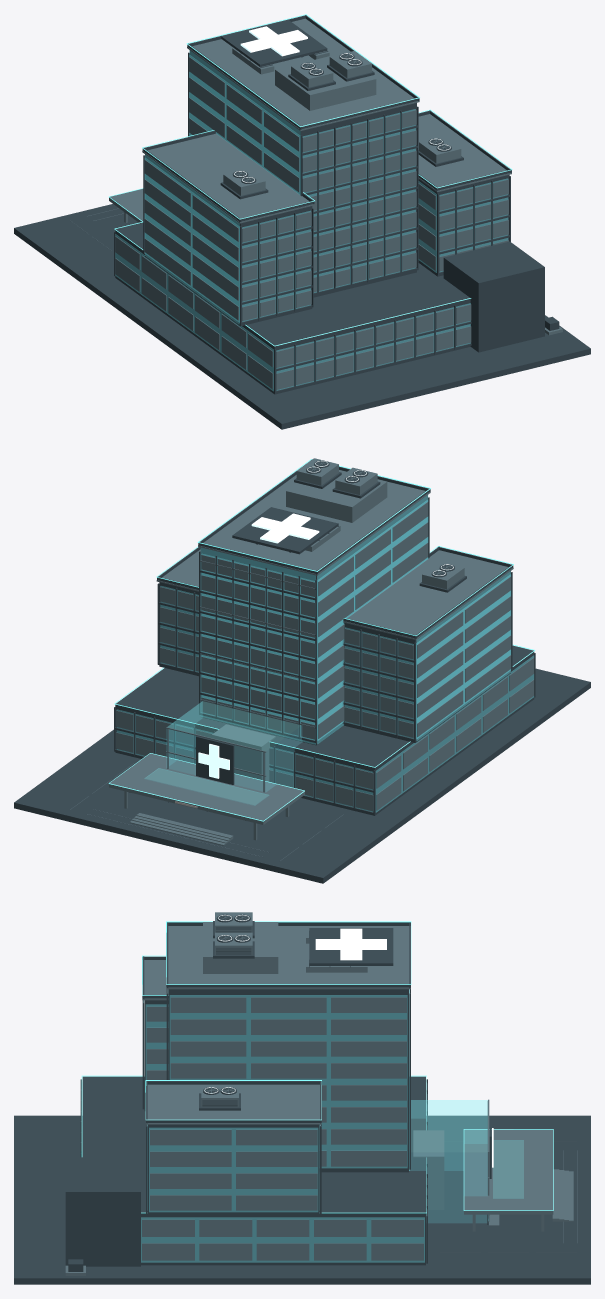
Rendered from hospital.glb.
3 views of the same model, one above another, from view 1: azimuth 30°, elevation 25°; view 2: azimuth 150°, elevation 25°; view 3: azimuth 270°, elevation 25° (orthographic). The views are drawn at different scales.
Visible parts, largest first — view 1: hospital_graphite, hospital_graphite_light, hospital_glass, hospital_edge, hospital_white; view 2: hospital_graphite_light, hospital_graphite, hospital_glass, hospital_edge, hospital_white; view 3: hospital_graphite, hospital_graphite_light, hospital_glass, hospital_edge, hospital_white.
Boxes of the visible parts, bbox=[...] form: hospital_graphite: bbox=[14, 15, 590, 429]; hospital_graphite_light: bbox=[70, 18, 562, 389]; hospital_glass: bbox=[115, 50, 507, 390]; hospital_edge: bbox=[109, 14, 512, 346]; hospital_white: bbox=[234, 26, 450, 182]; hospital_graphite_light: bbox=[70, 458, 534, 860]; hospital_graphite: bbox=[14, 460, 590, 883]; hospital_glass: bbox=[117, 495, 533, 812]; hospital_edge: bbox=[108, 459, 535, 821]; hospital_white: bbox=[198, 460, 453, 778]; hospital_graphite: bbox=[14, 914, 590, 1284]; hospital_graphite_light: bbox=[65, 912, 577, 1275]; hospital_glass: bbox=[141, 989, 523, 1262]; hospital_edge: bbox=[81, 921, 553, 1213]; hospital_white: bbox=[204, 914, 493, 1167].
Size of the model in its own units: 56 by 44.01 by 84.
